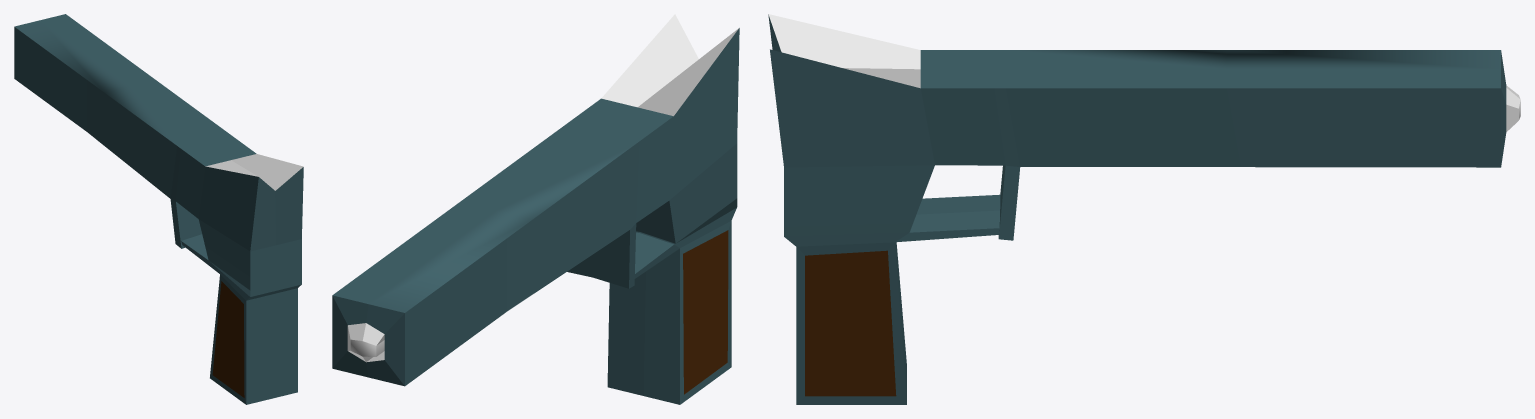
File: tebence.fbx
3 views of the same model, side by side, from view 1: azimuth 30°, elevation 25°; view 2: azimuth 150°, elevation 25°; view 3: azimuth 270°, elevation 25° (orthographic). The views are drawn at different scales.
Visible parts, largest first — view 1: Cube.008; view 2: Cube.008; view 3: Cube.008.
Boxes of the visible parts, x1=… form: Cube.008: x1=14, y1=14, x2=303, y2=404; Cube.008: x1=332, y1=14, x2=739, y2=404; Cube.008: x1=768, y1=14, x2=1520, y2=404.
Bounding box in the file's own units: 25.38 × 103 × 197.
